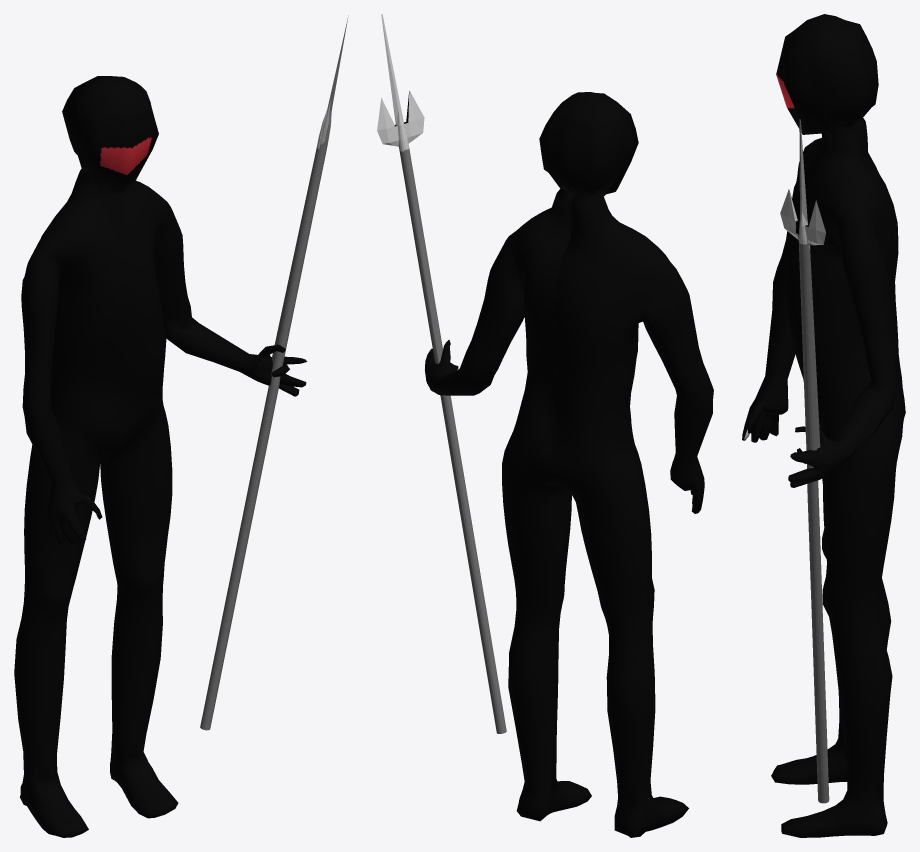
The model's file is boss.obj.
The picture shows the model from 3 angles, left to right: view 1: azimuth 30°, elevation 25°; view 2: azimuth 150°, elevation 25°; view 3: azimuth 270°, elevation 25°; orthographic projection. The views are drawn at different scales.
Visible parts, largest first — view 1: Cube_Cube.001; view 2: Cube_Cube.001; view 3: Cube_Cube.001.
Boxes of the visible parts, x1,y1,x2,y2 form: Cube_Cube.001: [14, 15, 348, 837]; Cube_Cube.001: [377, 14, 713, 837]; Cube_Cube.001: [742, 14, 905, 837].
Size of the model in its own units: 3.36 by 7.32 by 1.33.
1 material, 1 textured.
